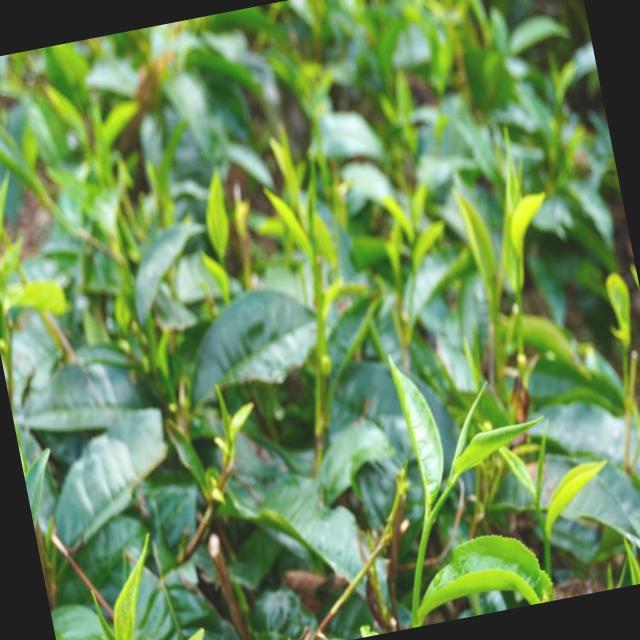Stem: (425, 514, 435, 524), (534, 496, 540, 503)
